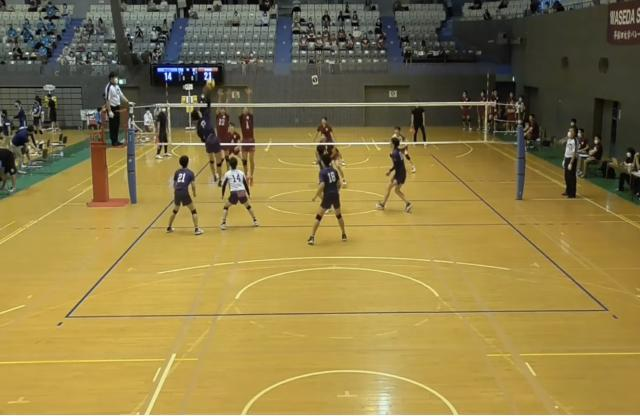spike: (191, 76, 228, 190)
